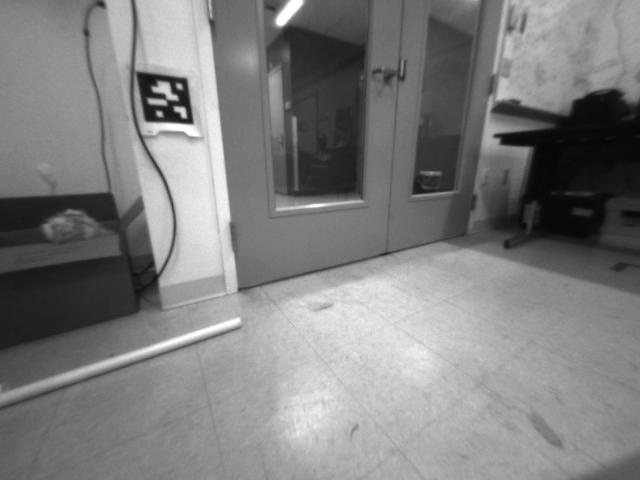door_handle: (367, 60, 400, 87)
